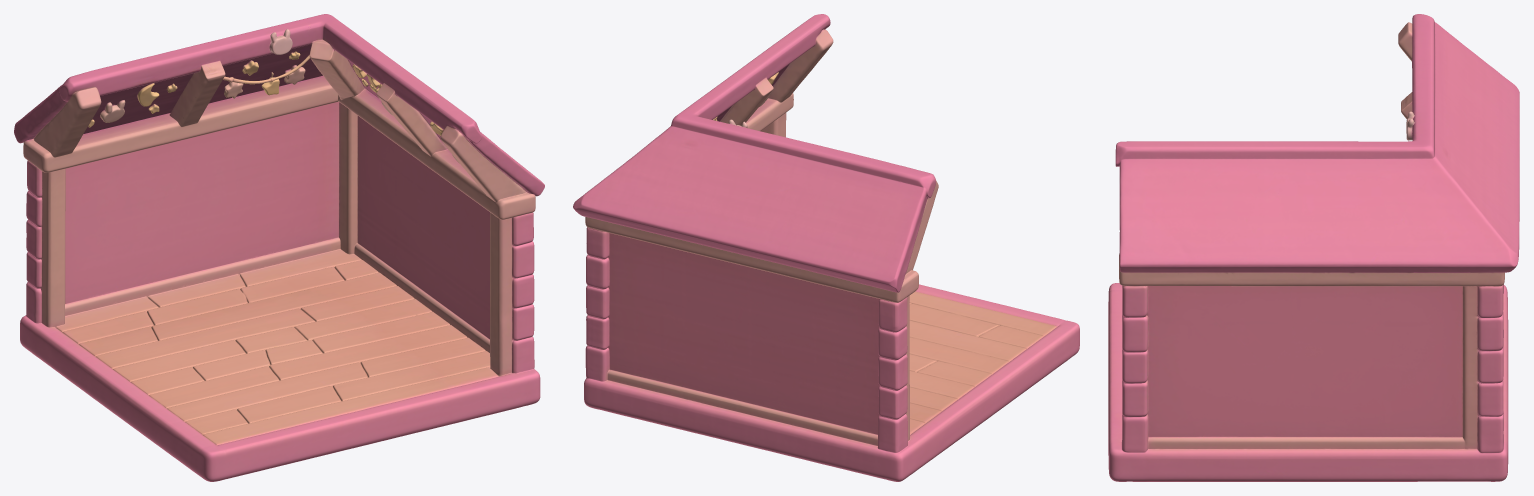
File: Room.fbx
3 renders of one model, left to right at view 1: azimuth 30°, elevation 25°; view 2: azimuth 150°, elevation 25°; view 3: azimuth 270°, elevation 25°, orthographic. The views are drawn at different scales.
Visible parts, largest first — view 1: pink dollhouse 3d model; view 2: pink dollhouse 3d model; view 3: pink dollhouse 3d model.
Part boxes in pixels (bbox=[...]): pink dollhouse 3d model: bbox=[14, 14, 544, 481]; pink dollhouse 3d model: bbox=[573, 14, 1079, 481]; pink dollhouse 3d model: bbox=[1108, 14, 1519, 481].
Size of the model in its own units: 1 by 0.8267 by 0.9958.
1 material, 1 textured.
